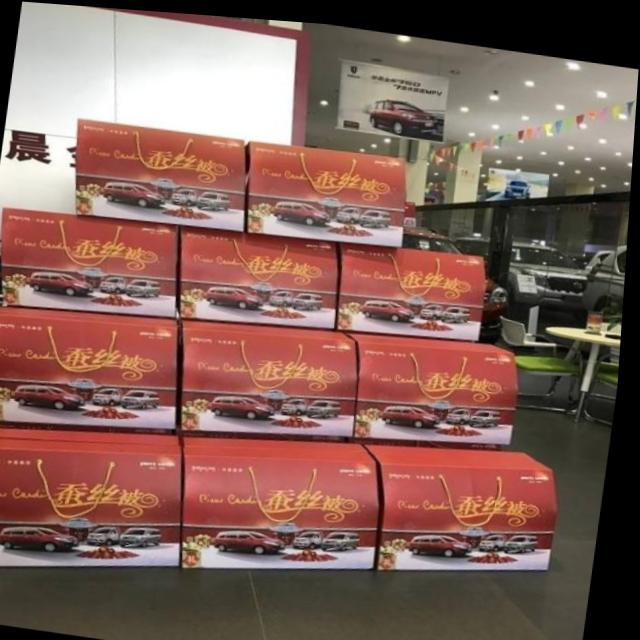box: (189, 440, 385, 564), (0, 440, 187, 566), (0, 305, 184, 425), (380, 450, 566, 565), (185, 314, 363, 431), (344, 324, 523, 436), (3, 206, 181, 315), (78, 116, 247, 229), (246, 137, 408, 242), (180, 224, 342, 324), (341, 238, 488, 332), (0, 428, 184, 443), (371, 439, 541, 452), (186, 434, 375, 445)
